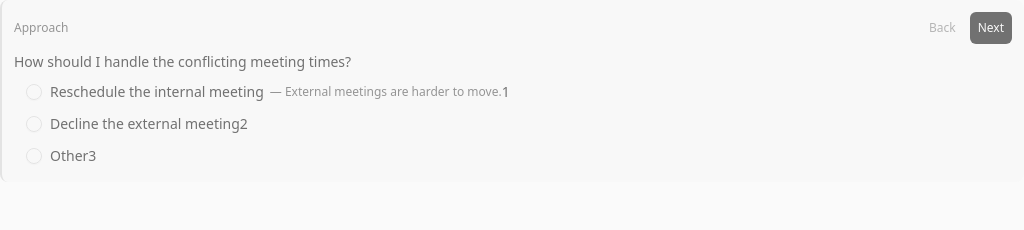
Test case: Multi-question Back/Next navigation › Next button navigates to next question and shows its content
This screenshot has width=1024, height=230.
Expected: the text "How should I handle the conflicting meeting times?" is shown, [14,52,351,71]
Expected: the text "Which features should we include?" is not shown
Click the button "Next". click: (991, 28)
box: [970,12,1012,44]
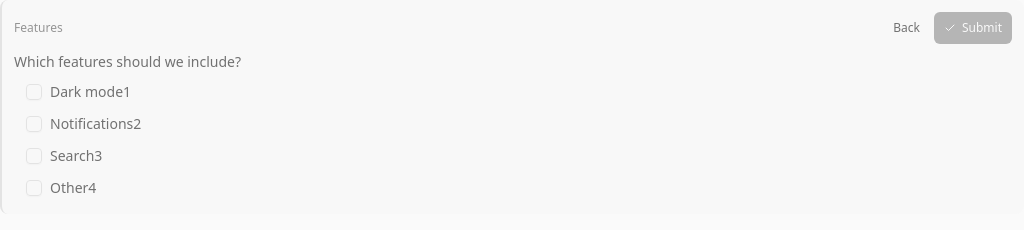
Now the text "Which features should we include?" is shown, box [14,52,241,71]
Now the text "How should I handle the conflicting meeting times?" is gone
